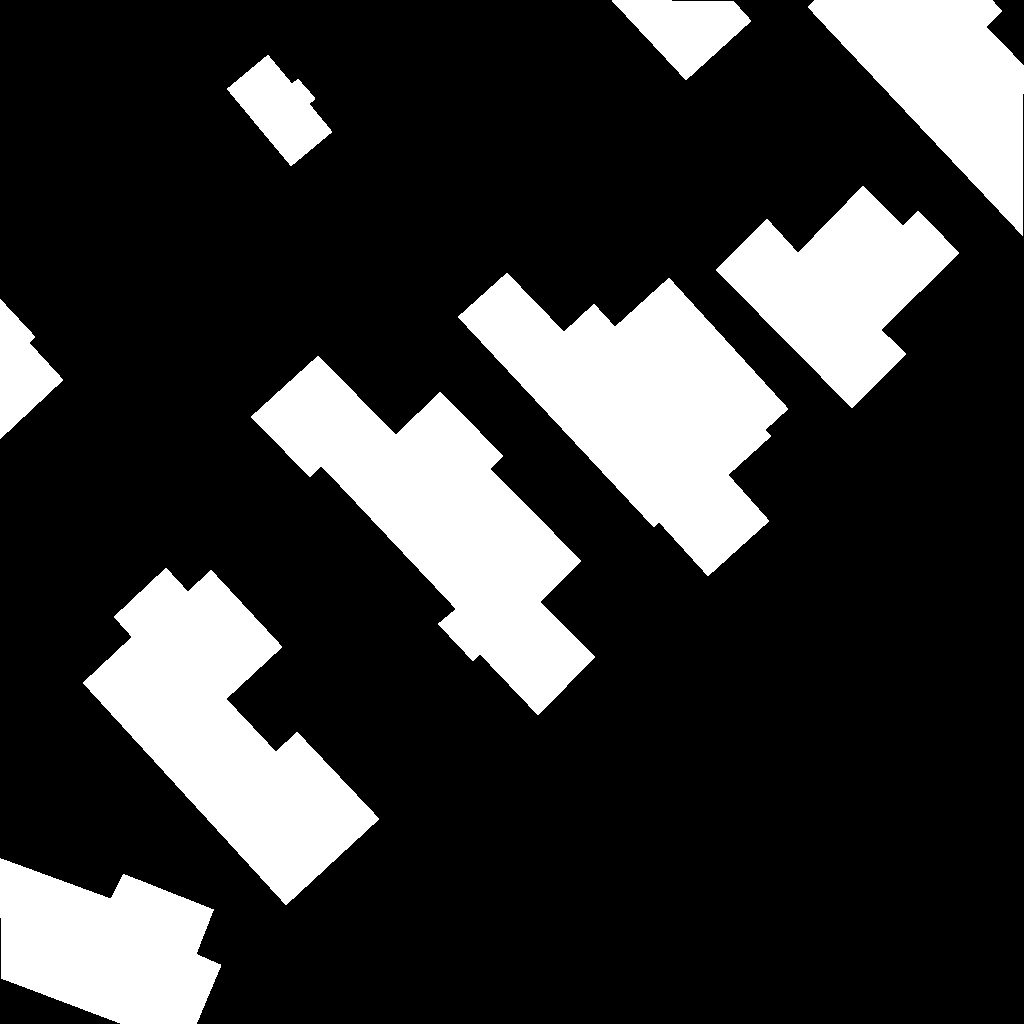building: (251, 356, 596, 716), (458, 273, 789, 577), (83, 568, 380, 906), (716, 186, 960, 409), (808, 0, 1024, 237), (0, 858, 222, 1024), (227, 55, 333, 167), (611, 0, 752, 81), (0, 299, 64, 440)
